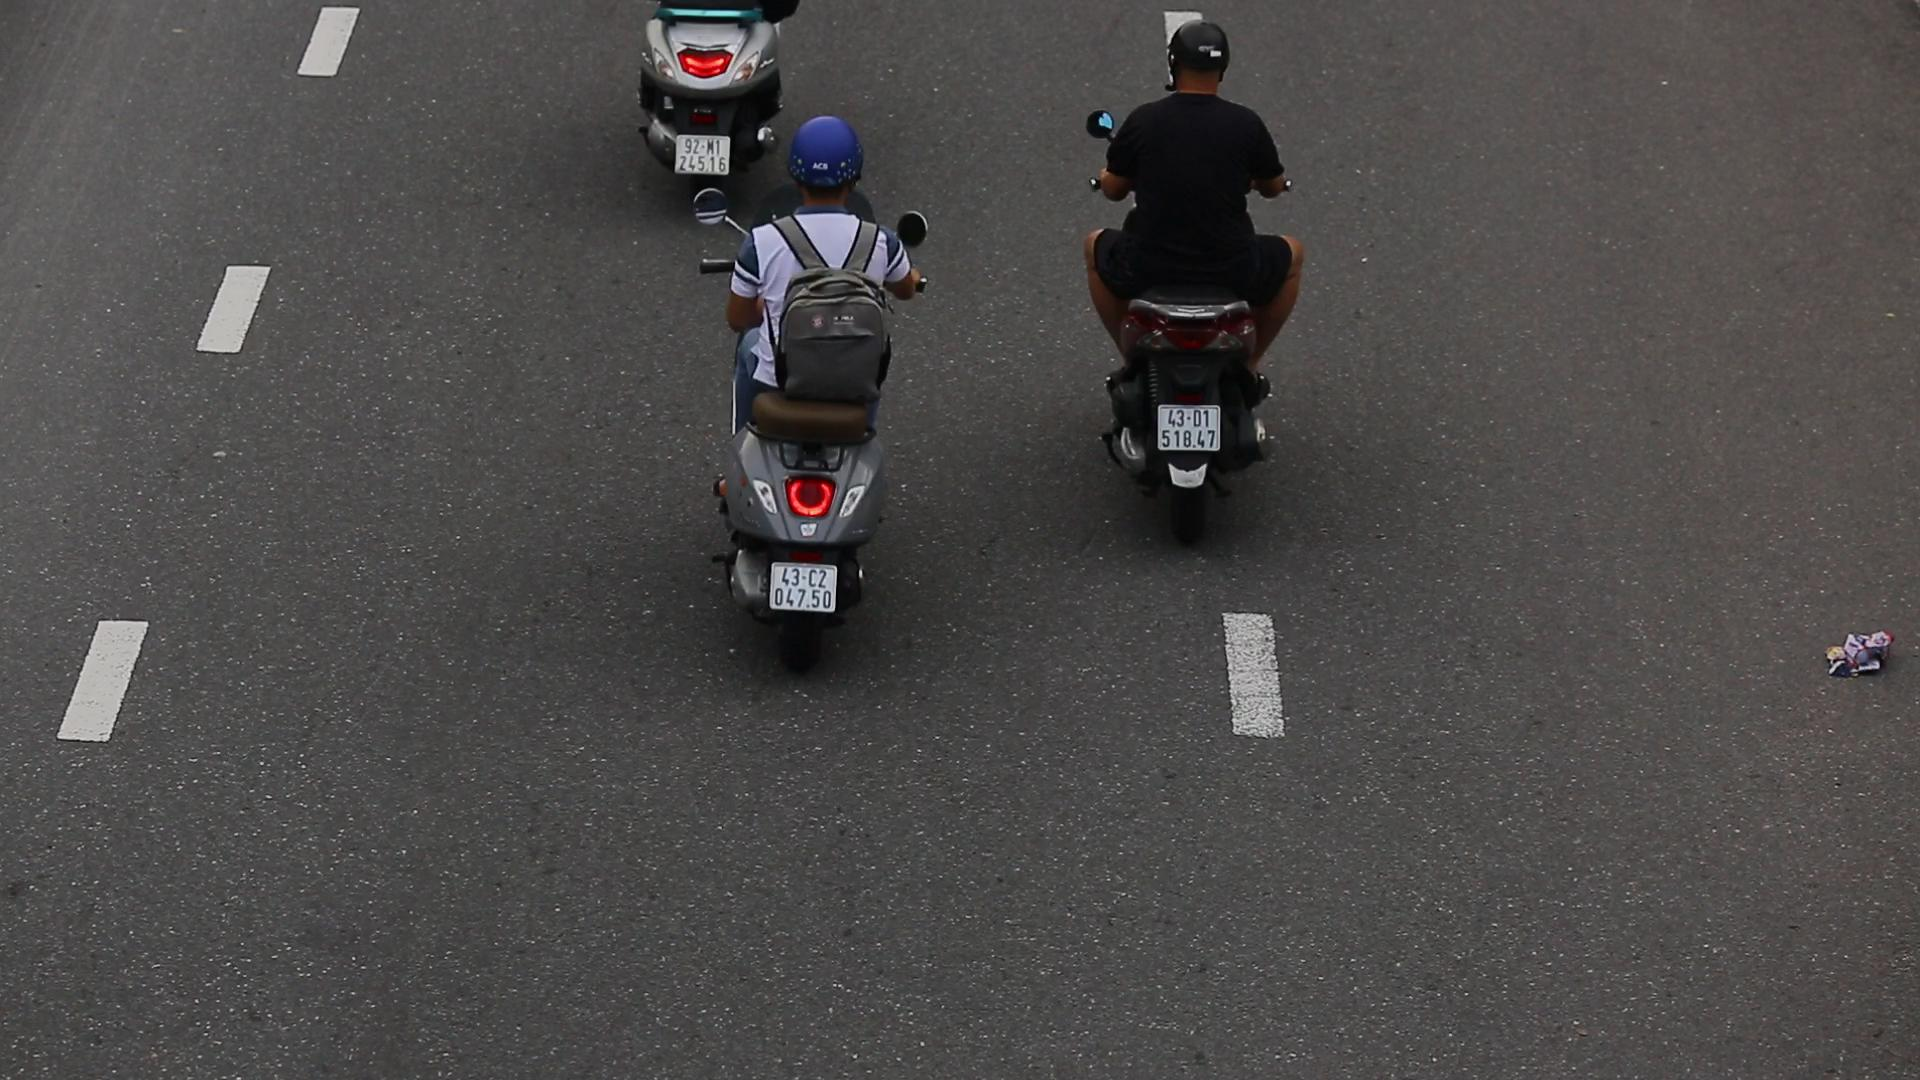motobike: (687, 113, 951, 667), (1063, 29, 1316, 529)
